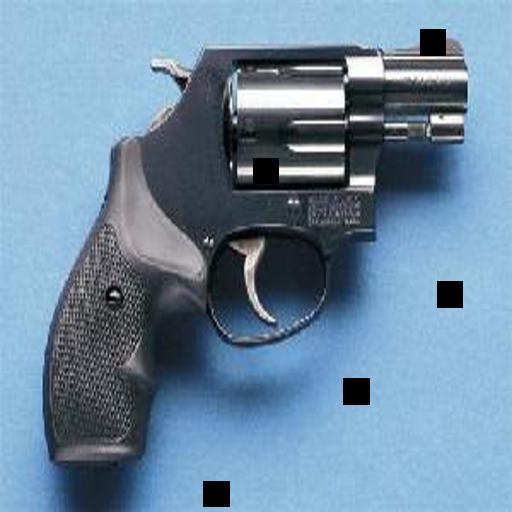Handgun: (43, 27, 468, 469)
